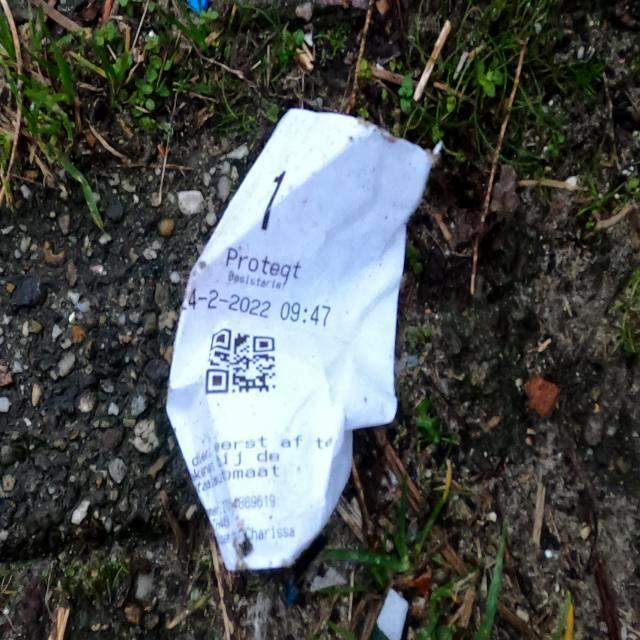Paper: (162, 104, 446, 576)
